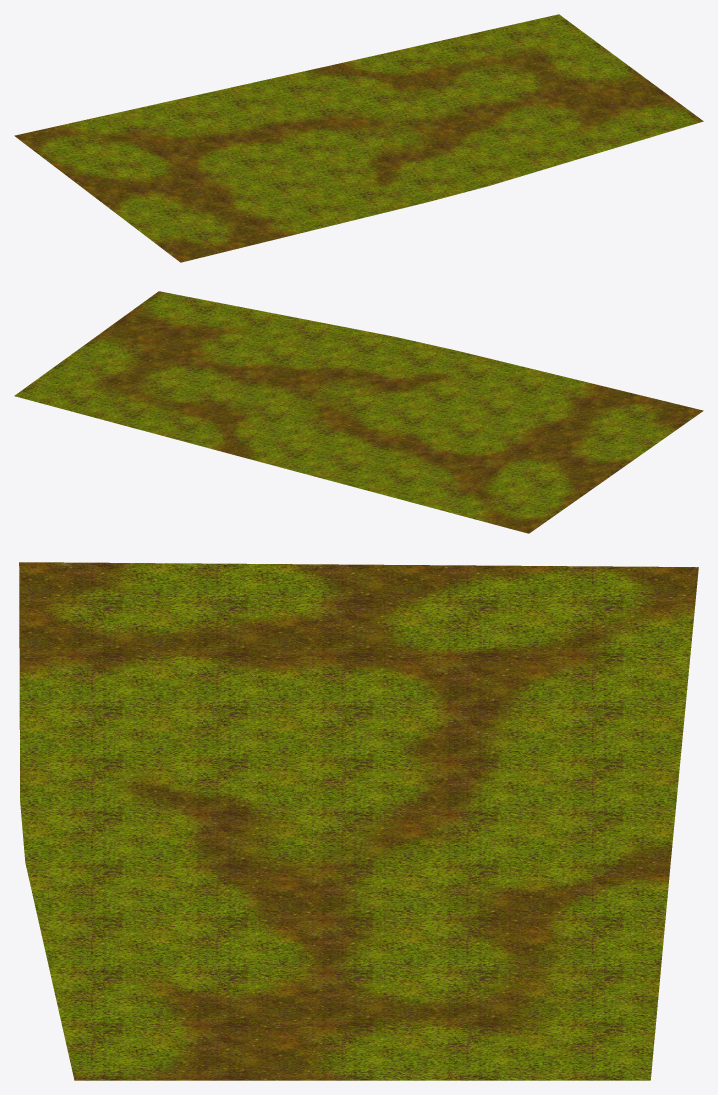
The model's file is ground8.glb.
The picture shows the model from 3 angles, top to bottom: view 1: azimuth 30°, elevation 25°; view 2: azimuth 150°, elevation 25°; view 3: azimuth 270°, elevation 25°; orthographic projection. The views are drawn at different scales.
Visible parts, largest first — view 1: Plane.001; view 2: Plane.001; view 3: Plane.001.
Part boxes in pixels (x1,y1,x2,y2): Plane.001: [14, 14, 703, 262]; Plane.001: [14, 291, 703, 533]; Plane.001: [19, 562, 698, 1080].
Size of the model in its own units: 122 by 0.0745 by 67.52.
Materials: 1 (1 with a texture image).
